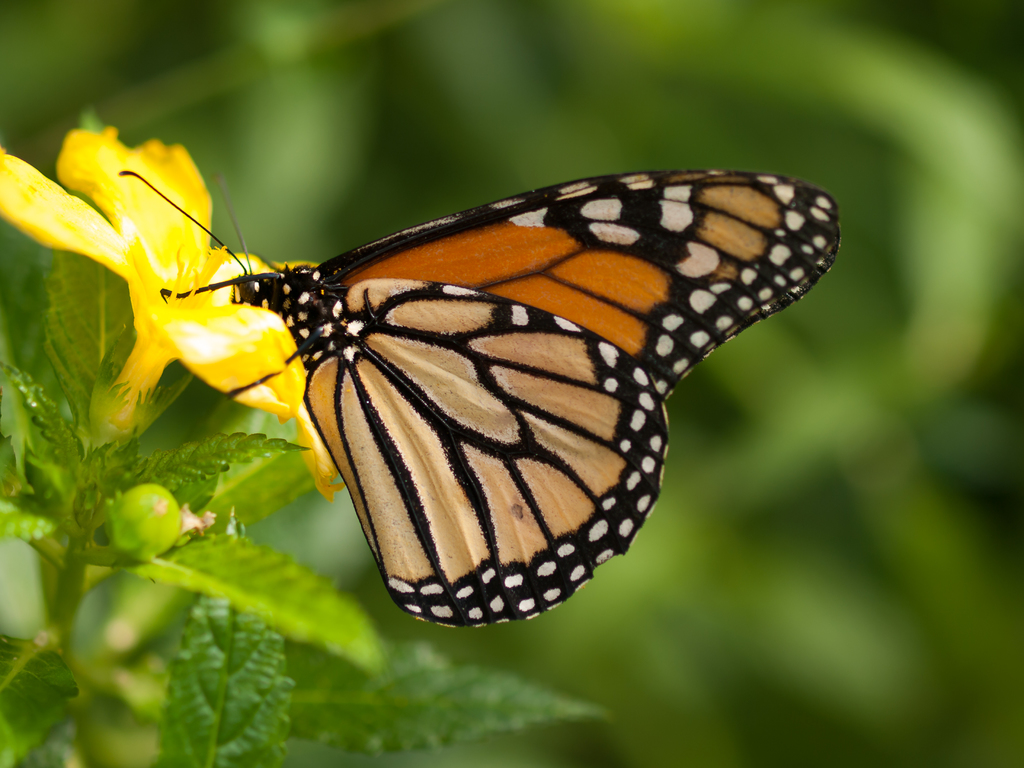Butterfly: (168, 137, 850, 636)
